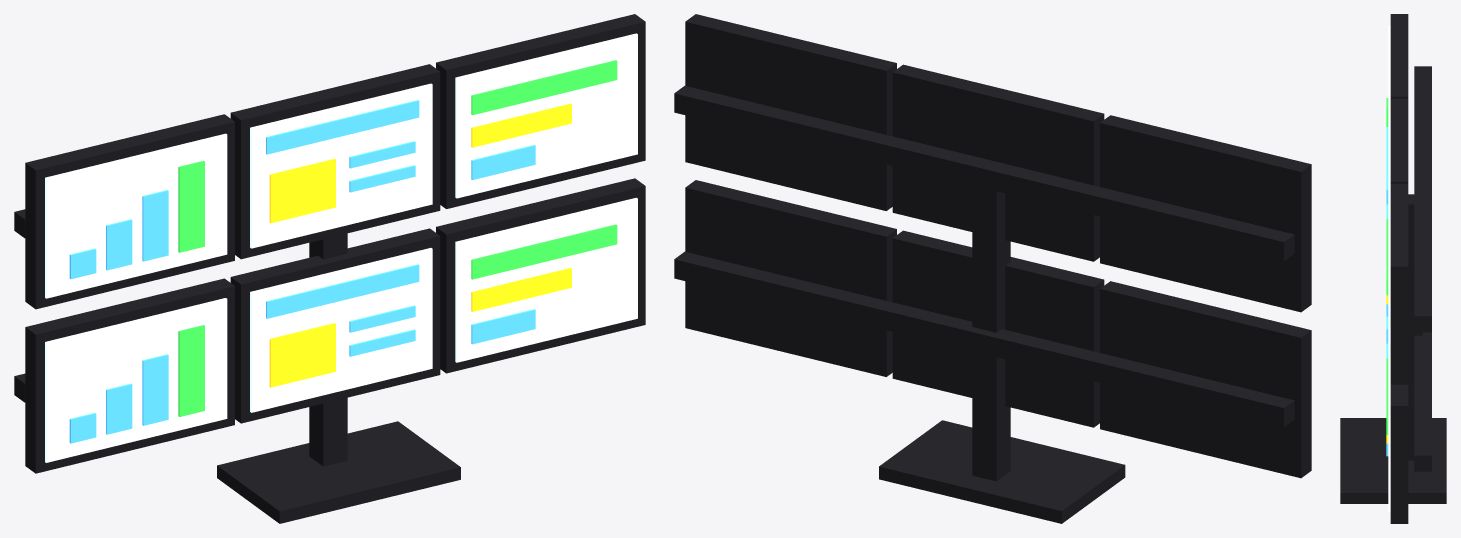
The model's file is station_intake_ausstattung_1_2.glb.
3 renders of one model, left to right at view 1: azimuth 30°, elevation 25°; view 2: azimuth 150°, elevation 25°; view 3: azimuth 270°, elevation 25°, orthographic. The views are drawn at different scales.
Parts seen in each view (by area): view 1: station_intake_ausstattung_1_2; view 2: station_intake_ausstattung_1_2; view 3: station_intake_ausstattung_1_2.
Part boxes in pixels (x1,y1,x2,y2): station_intake_ausstattung_1_2: (14,14,645,523); station_intake_ausstattung_1_2: (674,14,1311,523); station_intake_ausstattung_1_2: (1340,14,1446,523).
Bounding box in the file's own units: 1.01 × 0.608 × 0.18.
